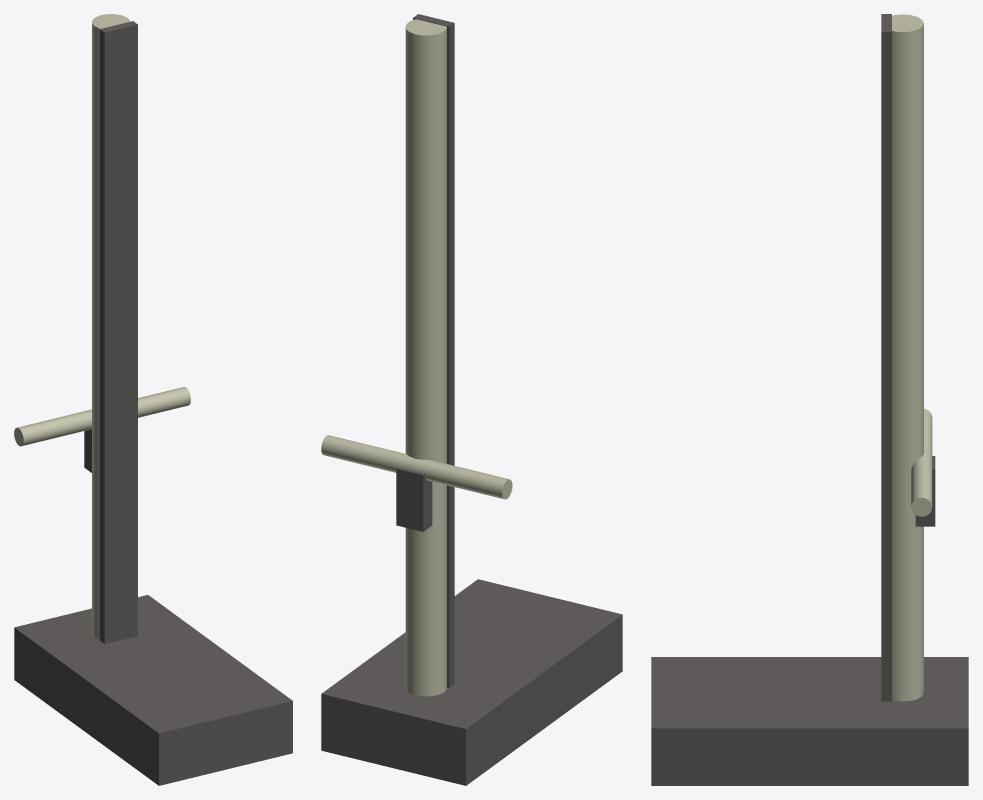
Rendered from palka.fbx.
3 renders of one model, left to right at view 1: azimuth 30°, elevation 25°; view 2: azimuth 150°, elevation 25°; view 3: azimuth 270°, elevation 25°, orthographic. The views are drawn at different scales.
Parts seen in each view (by area): view 1: Cube, Cube_2, Cylinder, Cylinder_1; view 2: Cube, Cylinder, Cube_2, Cylinder_1, Cube_1; view 3: Cube, Cylinder, Cube_2, Cylinder_1.
Boxes of the visible parts, x1,y1,x2,y2 form: Cube: (14,595,292,785); Cube_2: (99,21,137,644); Cylinder: (92,14,130,639); Cylinder_1: (14,387,190,446); Cube: (321,579,622,785); Cylinder: (405,19,446,696); Cube_2: (413,14,454,687); Cylinder_1: (321,435,512,499); Cube_1: (396,467,432,531); Cube: (651,657,968,785); Cylinder: (892,14,923,701); Cube_2: (881,14,891,701); Cylinder_1: (911,408,932,516).
Size of the model in its own units: 10 by 37.93 by 15.
